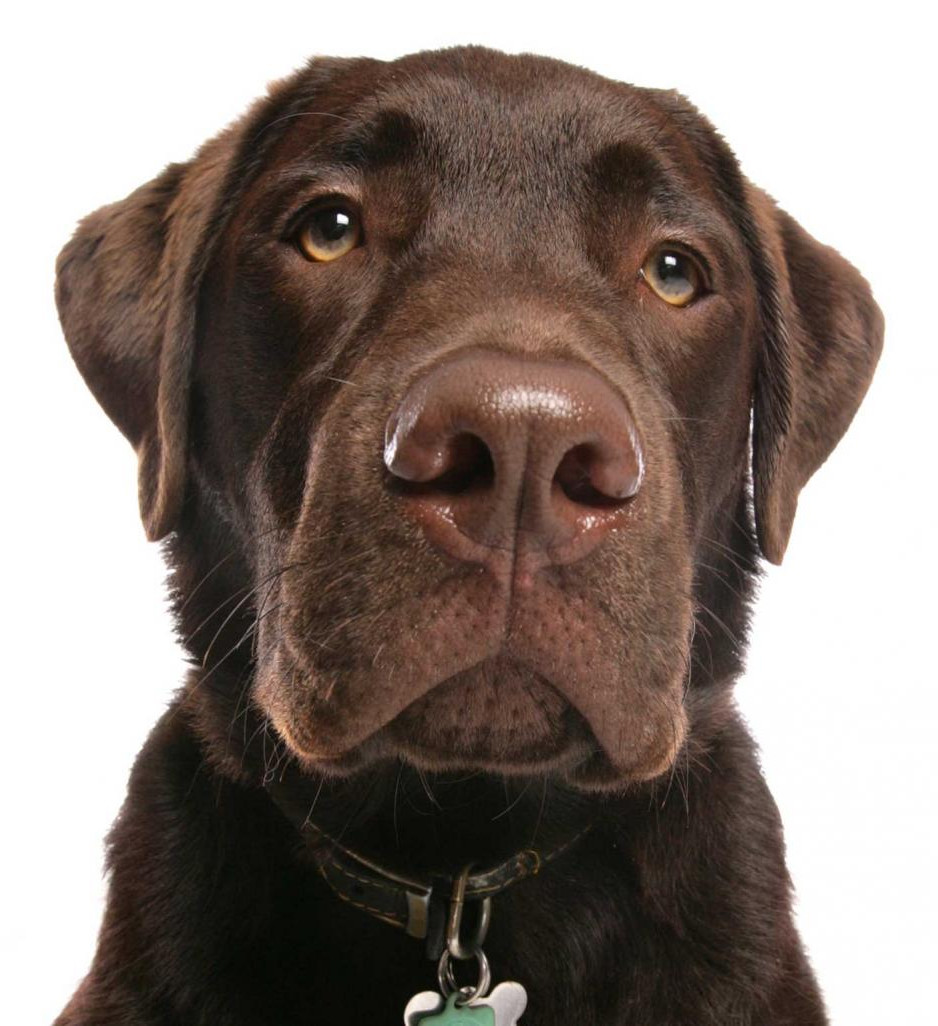dog: (0, 0, 938, 1026)
